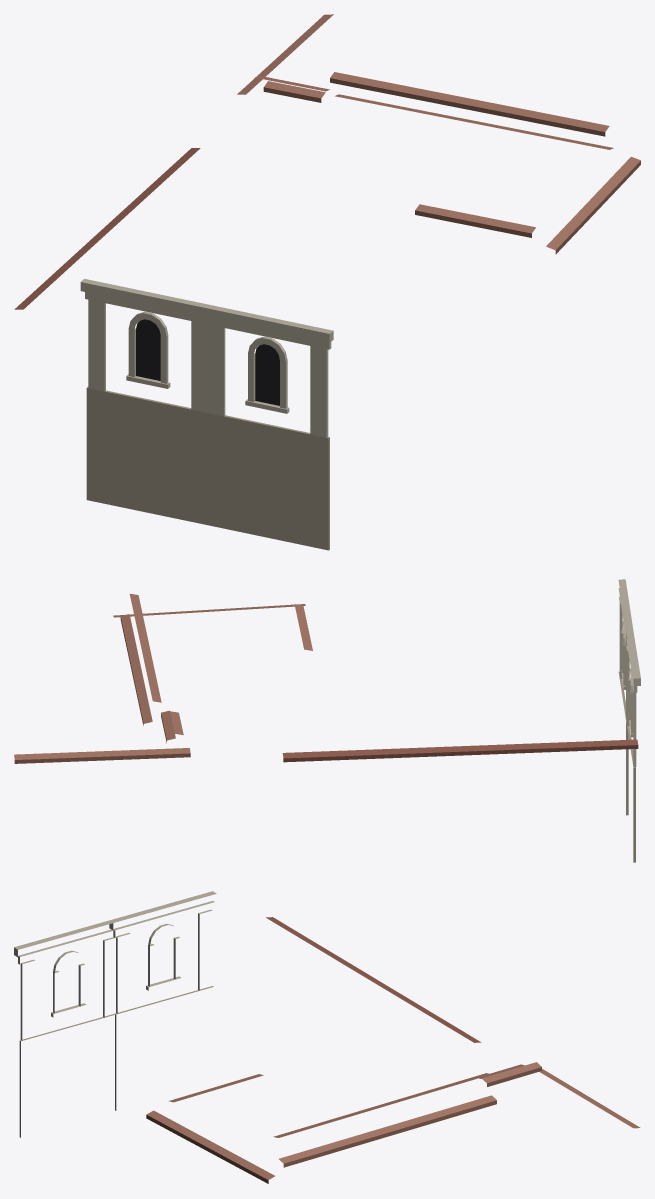
The picture shows the model from 3 angles, top to bottom: view 1: azimuth 30°, elevation 25°; view 2: azimuth 150°, elevation 25°; view 3: azimuth 270°, elevation 25°; orthographic projection. The views are drawn at different scales.
Parts seen in each view (by area): view 1: detail; view 2: detail; view 3: detail.
Boxes of the visible parts, x1,y1,x2,y2 form: detail: (14,14,640,550); detail: (14,579,640,862); detail: (14,891,640,1183).
Bounding box in the file's own units: 21.72 × 7.29 × 21.94.
